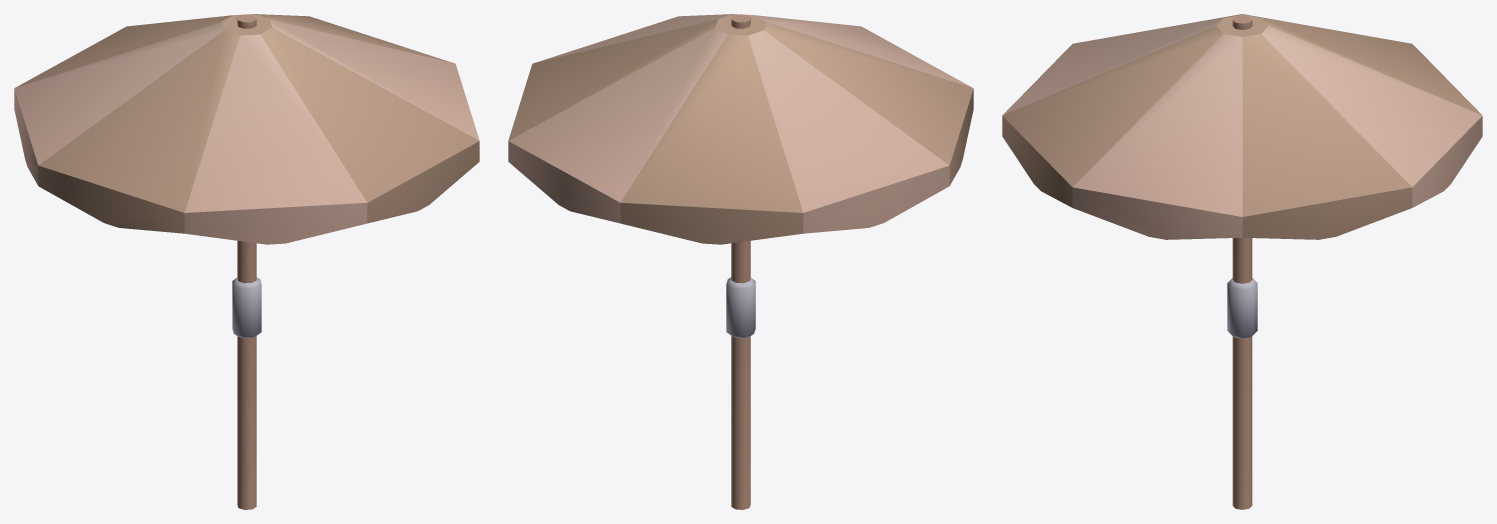
Rendered from parasol-simple.glb.
The picture shows the model from 3 angles, left to right: view 1: azimuth 30°, elevation 25°; view 2: azimuth 150°, elevation 25°; view 3: azimuth 270°, elevation 25°; orthographic projection.
Visible parts, largest first — view 1: parasol-simple; view 2: parasol-simple; view 3: parasol-simple.
Part boxes in pixels (box(x1,y1,x2,y2)): parasol-simple: box(14, 14, 479, 509); parasol-simple: box(508, 14, 973, 509); parasol-simple: box(1002, 14, 1482, 509).
Size of the model in its own units: 1.26 by 1.41 by 1.26.
